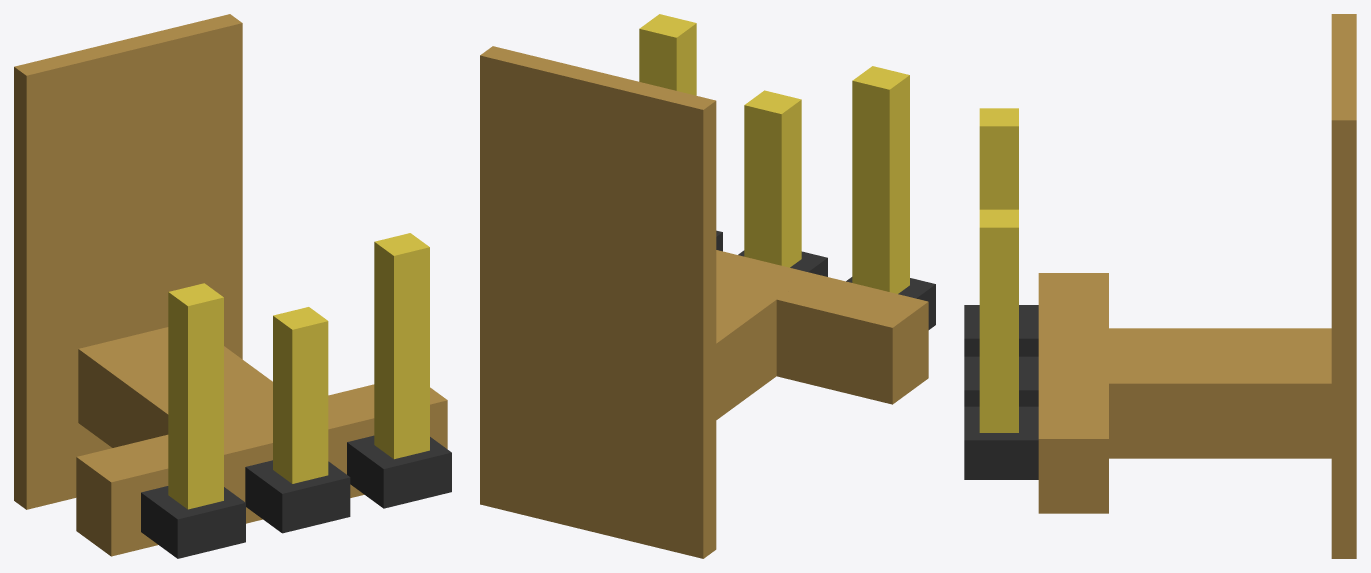
Rendered from light_wall.fbx.
3 views of the same model, side by side, from view 1: azimuth 30°, elevation 25°; view 2: azimuth 150°, elevation 25°; view 3: azimuth 270°, elevation 25° (orthographic). The views are drawn at different scales.
Visible parts, largest first — view 1: Light Wall; view 2: Light Wall; view 3: Light Wall.
Part boxes in pixels (x1=…): Light Wall: x1=14, y1=14, x2=451, y2=558; Light Wall: x1=480, y1=14, x2=935, y2=558; Light Wall: x1=964, y1=14, x2=1356, y2=558.
Size of the model in its own units: 28.27 by 34.84 by 28.25.
